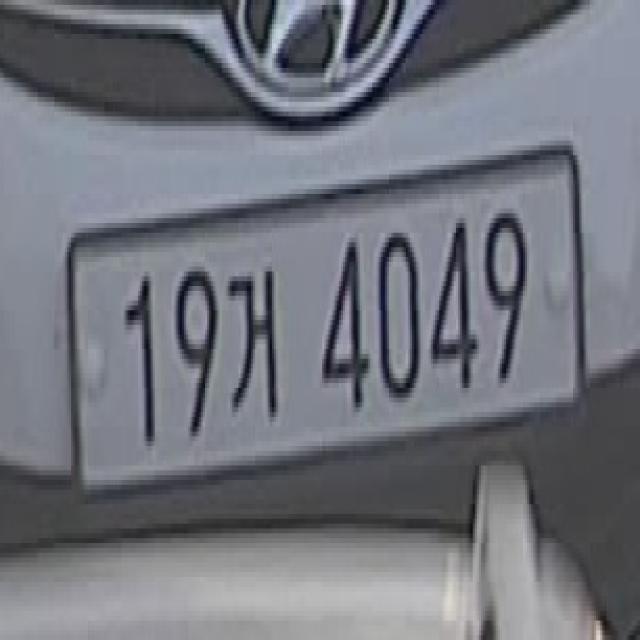0: (372, 213, 429, 412)
1: (117, 252, 163, 461)
4: (427, 199, 483, 407), (316, 223, 372, 417)
9: (169, 247, 224, 451), (481, 189, 531, 383)
geo: (224, 257, 286, 446)
license_plate: (61, 131, 590, 514)
